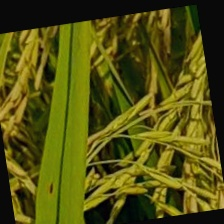Bacterial_Leaf_Blight: (45, 179, 58, 196)
